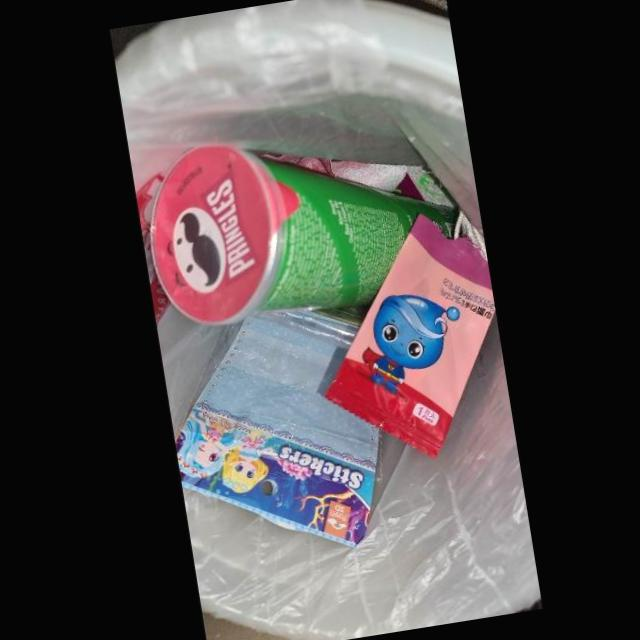carton: (150, 145, 456, 325), (174, 308, 380, 546)
goi_nhua_nho: (323, 212, 496, 458)
